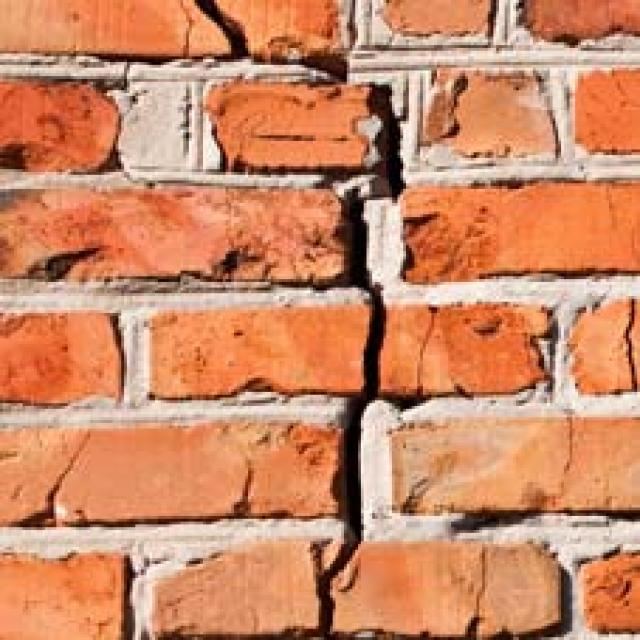Crack: (165, 0, 462, 640)
